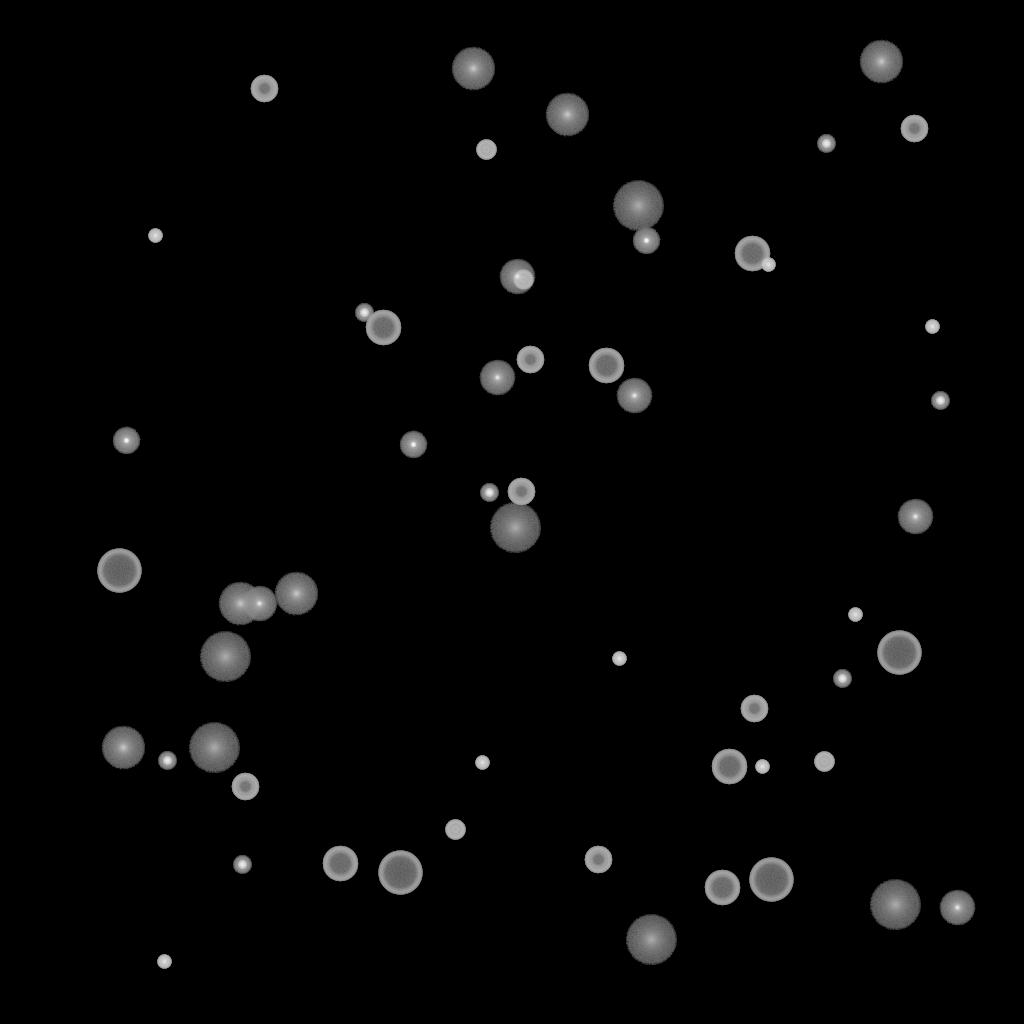depth:-10: (112, 427, 140, 455), (632, 227, 660, 255), (399, 431, 427, 459)
depth:-20: (480, 484, 498, 502), (817, 135, 835, 153), (158, 752, 176, 770), (355, 304, 373, 322), (833, 670, 851, 688), (931, 392, 949, 410), (233, 856, 251, 874)
depth:-30: (848, 608, 862, 622), (755, 760, 769, 774), (612, 652, 626, 666), (925, 320, 939, 334), (157, 955, 171, 969), (148, 229, 162, 243), (475, 756, 489, 770), (761, 258, 775, 272)
depth:-40: (513, 270, 533, 290), (445, 820, 465, 840), (476, 140, 496, 160), (814, 752, 834, 772)
depth:-50: (584, 846, 612, 874), (507, 478, 535, 506), (231, 773, 259, 801), (516, 346, 544, 374), (900, 115, 928, 143), (740, 695, 768, 723), (250, 75, 278, 103)
depth:-60: (588, 348, 624, 384), (322, 846, 358, 882), (734, 236, 770, 272), (711, 749, 747, 785), (365, 310, 401, 346), (704, 870, 740, 906)
depth:-70: (749, 858, 793, 902), (378, 851, 422, 895), (97, 549, 141, 593), (877, 631, 921, 675)
depth:0: (479, 360, 515, 396), (939, 890, 975, 926), (897, 499, 933, 535), (499, 259, 535, 295), (616, 378, 652, 414), (241, 586, 277, 622)
depth:10: (218, 582, 262, 626), (859, 40, 903, 84), (274, 572, 318, 616), (451, 47, 495, 91), (101, 726, 145, 770), (545, 93, 589, 137)
depth:20: (489, 503, 541, 553), (625, 915, 677, 965), (612, 181, 664, 231), (199, 632, 251, 682), (188, 723, 240, 773), (869, 880, 921, 930)
